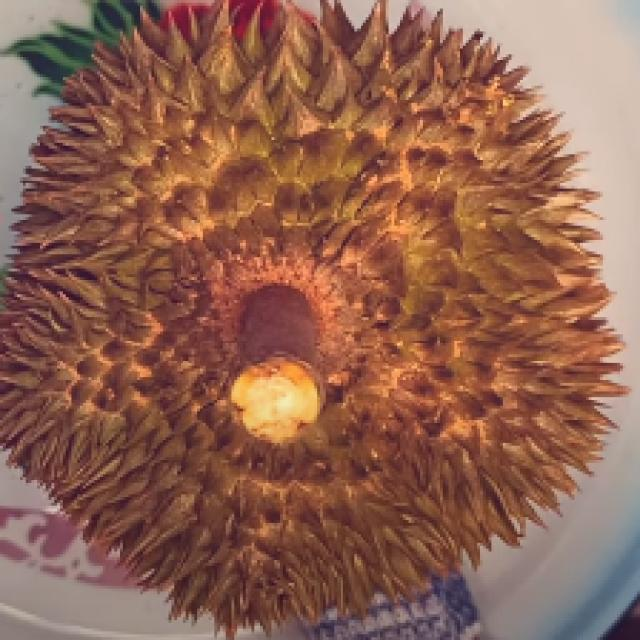d101: (69, 22, 581, 532), (169, 216, 435, 461)
